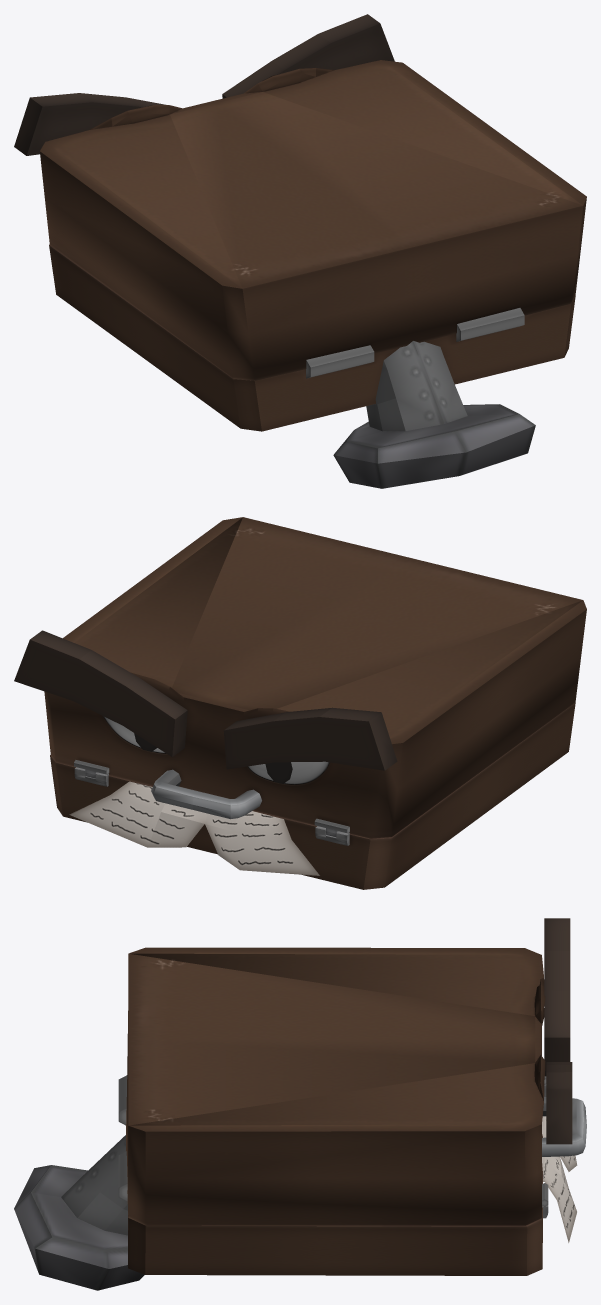
File: case-manager_head.glb
3 views of the same model, one above another, from view 1: azimuth 30°, elevation 25°; view 2: azimuth 150°, elevation 25°; view 3: azimuth 270°, elevation 25° (orthographic). The views are drawn at different scales.
Parts seen in each view (by area): view 1: Object; view 2: Object; view 3: Object.
Part boxes in pixels (<box>): Object: <box>14,14,586,488</box>; Object: <box>14,517,586,889</box>; Object: <box>14,918,586,1290</box>.
Size of the model in its own units: 2.17 by 1.39 by 2.8.
Materials: 1 (1 with a texture image).
